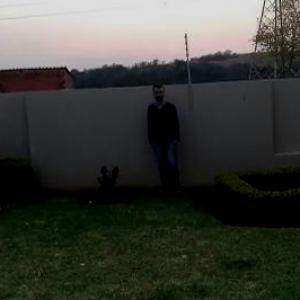follow: (146, 80, 182, 199)
